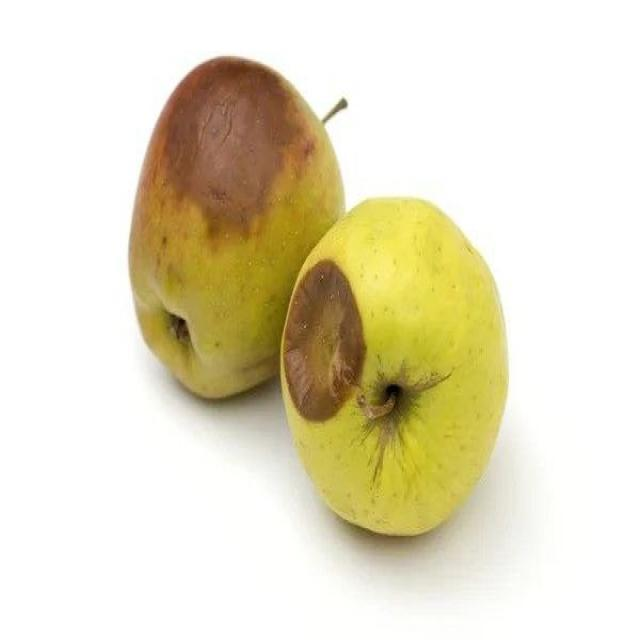Rotten: (265, 178, 502, 518), (128, 76, 317, 386)
